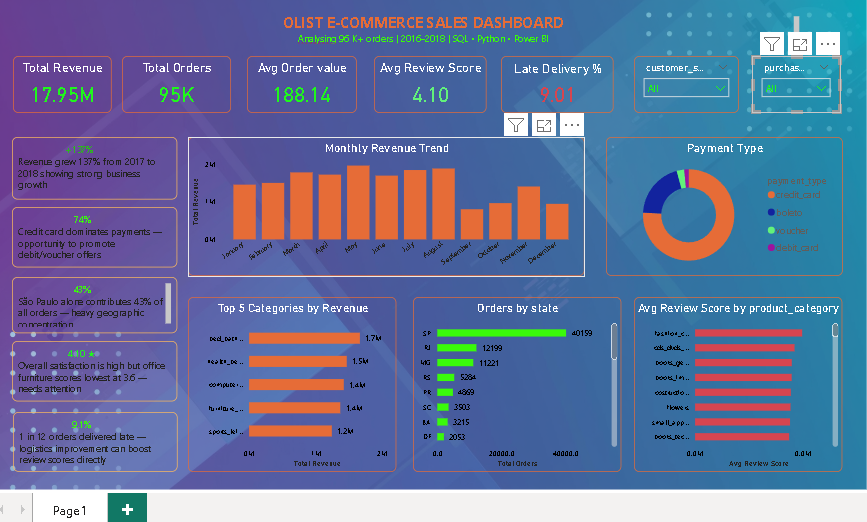

What the dashboard file says about the page in this screenshot:
{"tool":"powerbi","page":{"name":"Page 1","canvas":[1280,720],"ordinal":0},"visuals":[{"type":"image","box":[14.6,0,1265.9,720],"z":0},{"type":"textbox","box":[100,24.3,1084.3,57.1],"z":1000},{"type":"card","title":"Total Revenue","fields":{"Values":["olist_master_clean.Total Revenue"]},"box":[45.4,90.7,142,82],"z":2000},{"type":"card","title":"Total Orders","fields":{"Values":["olist_master_clean.Total Orders"]},"box":[203.4,90.7,156.6,82],"z":3000},{"type":"card","title":"Avg Order value","fields":{"Values":["olist_master_clean.Avg Order Value"]},"box":[383.4,90.7,158,82],"z":4000},{"type":"card","title":"Avg Review Score","fields":{"Values":["olist_master_clean.Avg Review Score"]},"box":[566.3,90.7,162.4,82],"z":5000},{"type":"card","title":"Late Delivery %","fields":{"Values":["olist_master_clean.Late Delivery Rate"]},"box":[749.3,90.7,162.4,82],"z":6000},{"type":"clusteredColumnChart","title":"Monthly Revenue Trend","fields":{"Category":["olist_master_clean.purchase_yearmonth.Variation.Date Hierarchy.Month"],"Y":["olist_master_clean.Total Revenue"]},"box":[298.5,207.8,570.7,200.5],"z":7000},{"type":"donutChart","title":"Payment Type","fields":{"Y":["olist_master_clean.Total Orders"],"Category":["olist_master_clean.payment_type"]},"box":[900,207.8,341,200.5],"z":8000},{"type":"clusteredBarChart","title":"Top 5 Categories by Revenue","fields":{"Category":["olist_master_clean.product_category_name_english"],"Y":["olist_master_clean.Total Revenue"]},"box":[298.5,437.6,300,251.7],"z":9000},{"type":"barChart","title":"Orders by state","fields":{"Y":["olist_master_clean.Total Orders"],"Category":["olist_master_clean.customer_state"]},"box":[622,437.6,300,251.7],"z":10000},{"type":"barChart","title":"Avg Review Score by product_category","fields":{"Category":["olist_master_clean.product_category_name_english"],"Y":["olist_master_clean.Avg Review Score"]},"box":[941,437.6,300,251.7],"z":11000},{"type":"slicer","fields":{"Values":["olist_master_clean.customer_state"]},"box":[941,90.7,150.7,82],"z":12000},{"type":"slicer","fields":{"Values":["olist_master_clean.purchase_year"]},"box":[1110.7,90.7,127.3,82],"z":13000},{"type":"textbox","box":[44.9,207.2,237.7,89.9],"z":14000},{"type":"textbox","box":[44.9,308.7,237.7,87],"z":15000},{"type":"textbox","box":[44.9,408.7,237.7,81.2],"z":16000},{"type":"textbox","box":[44.9,501.4,237.7,87],"z":17000},{"type":"textbox","box":[45.4,602.9,237.1,86.3],"z":18000}]}

Visuals, with their boxes in screenshot pixels (x1, y1, x2, y2):
image: l=0, t=0, r=864, b=487
textbox: l=47, t=6, r=798, b=45
"Total Revenue" card: l=9, t=52, r=107, b=108
"Total Orders" card: l=118, t=52, r=227, b=108
"Avg Order value" card: l=243, t=52, r=352, b=108
"Avg Review Score" card: l=370, t=52, r=482, b=108
"Late Delivery %" card: l=496, t=52, r=609, b=108
"Monthly Revenue Trend" clusteredColumnChart: l=184, t=133, r=579, b=271
"Payment Type" donutChart: l=601, t=133, r=837, b=271
"Top 5 Categories by Revenue" clusteredBarChart: l=184, t=292, r=392, b=466
"Orders by state" barChart: l=408, t=292, r=616, b=466
"Avg Review Score by product_category" barChart: l=629, t=292, r=837, b=466
slicer - olist_master_clean.customer_state: l=629, t=52, r=733, b=108
slicer - olist_master_clean.purchase_year: l=747, t=52, r=835, b=108
textbox: l=9, t=132, r=173, b=194
textbox: l=9, t=202, r=173, b=263
textbox: l=9, t=272, r=173, b=328
textbox: l=9, t=336, r=173, b=396
textbox: l=9, t=406, r=173, b=466
